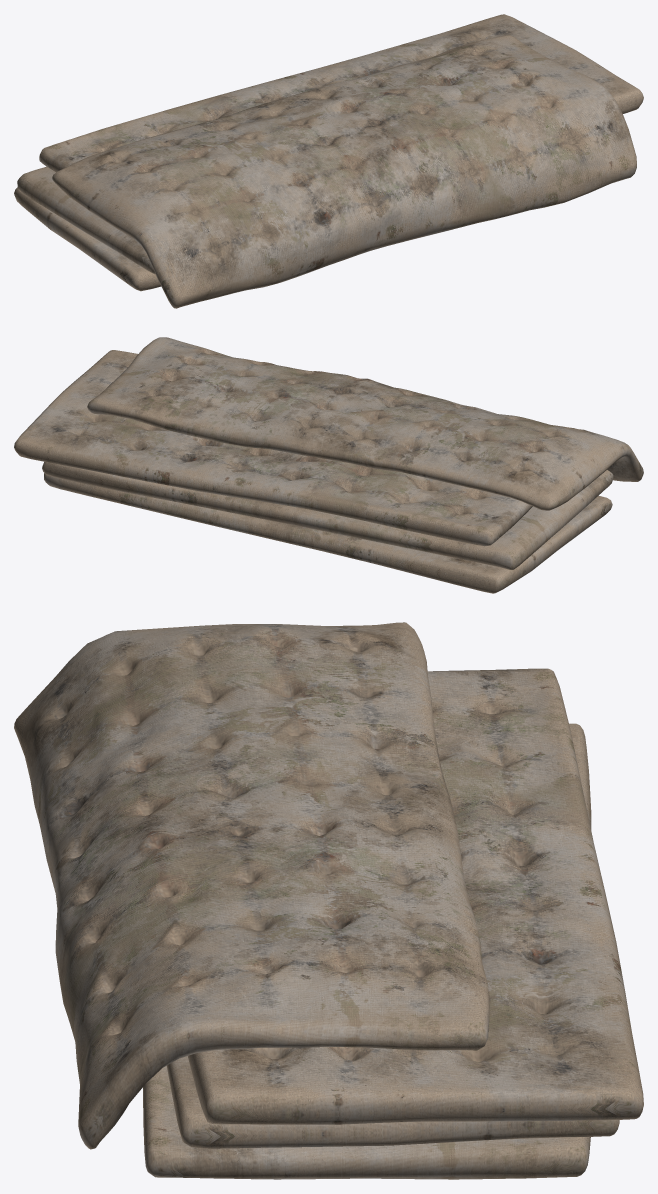
Rendered from SM_Mattress01_5_LOD0.glb.
3 renders of one model, top to bottom at view 1: azimuth 30°, elevation 25°; view 2: azimuth 150°, elevation 25°; view 3: azimuth 270°, elevation 25°, orthographic. The views are drawn at different scales.
Parts seen in each view (by area): view 1: SM_Mattress01_5_LOD0; view 2: SM_Mattress01_5_LOD0; view 3: SM_Mattress01_5_LOD0.
Part boxes in pixels (x1,y1,x2,y2): SM_Mattress01_5_LOD0: (14, 14, 643, 308); SM_Mattress01_5_LOD0: (14, 337, 643, 593); SM_Mattress01_5_LOD0: (14, 622, 643, 1179).
Size of the model in its own units: 2.62 by 0.4647 by 1.49.
Materials: 1 (1 with a texture image).
